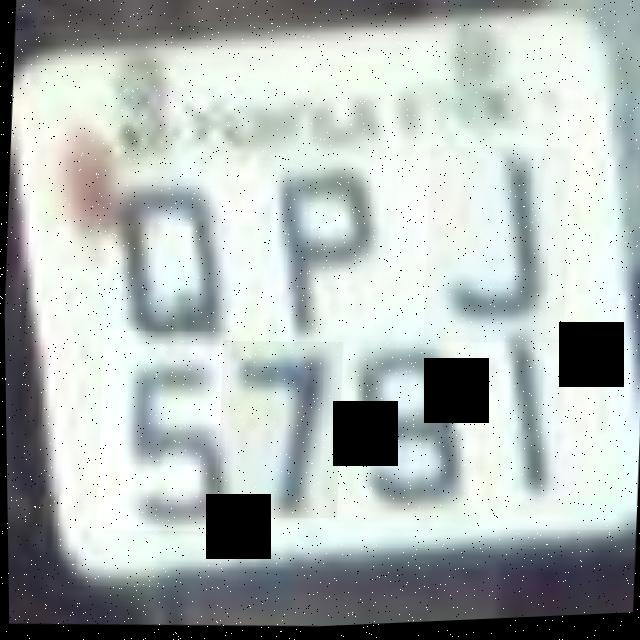1: (477, 340, 555, 519)
5: (92, 328, 233, 539)
7: (213, 339, 344, 525)
9: (325, 334, 464, 532)
J: (420, 146, 572, 353)
P: (260, 143, 397, 359)
